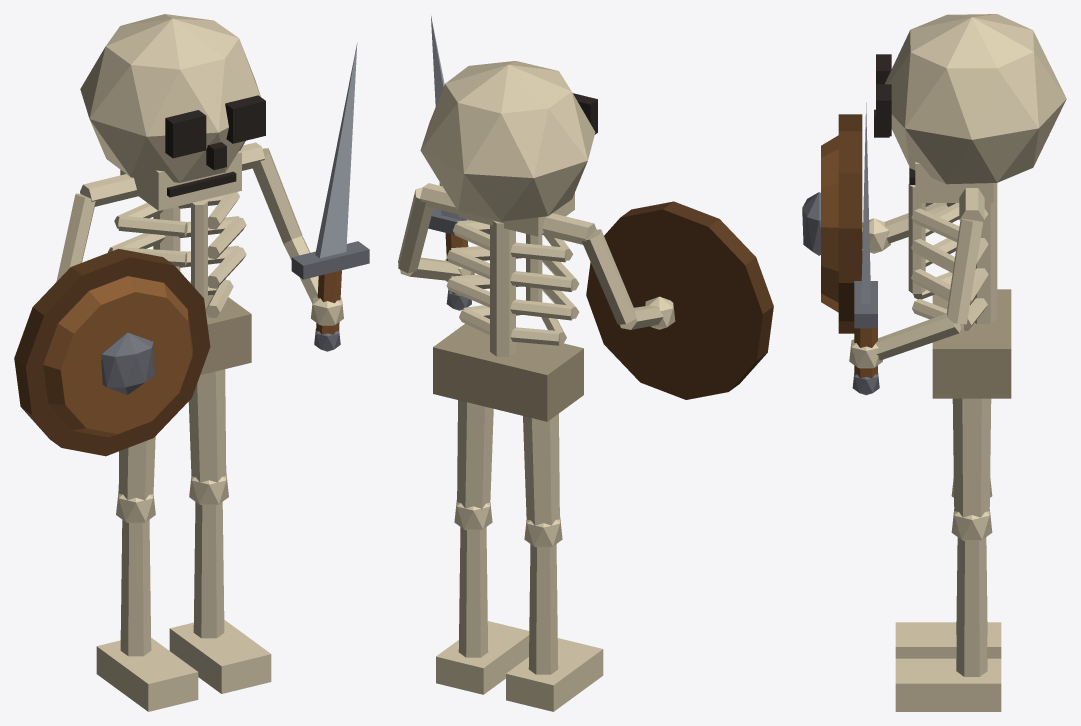
File: skeleton.glb
3 renders of one model, left to right at view 1: azimuth 30°, elevation 25°; view 2: azimuth 150°, elevation 25°; view 3: azimuth 270°, elevation 25°, orthographic. The views are drawn at different scales.
Parts seen in each view (by area): view 1: Skeleton; view 2: Skeleton; view 3: Skeleton.
Part boxes in pixels (x1=…): Skeleton: x1=14, y1=14, x2=369, y2=711; Skeleton: x1=398, y1=16, x2=773, y2=711; Skeleton: x1=802, y1=14, x2=1066, y2=711.
Bounding box in the file's own units: 1.06 × 1.87 × 0.6752.
